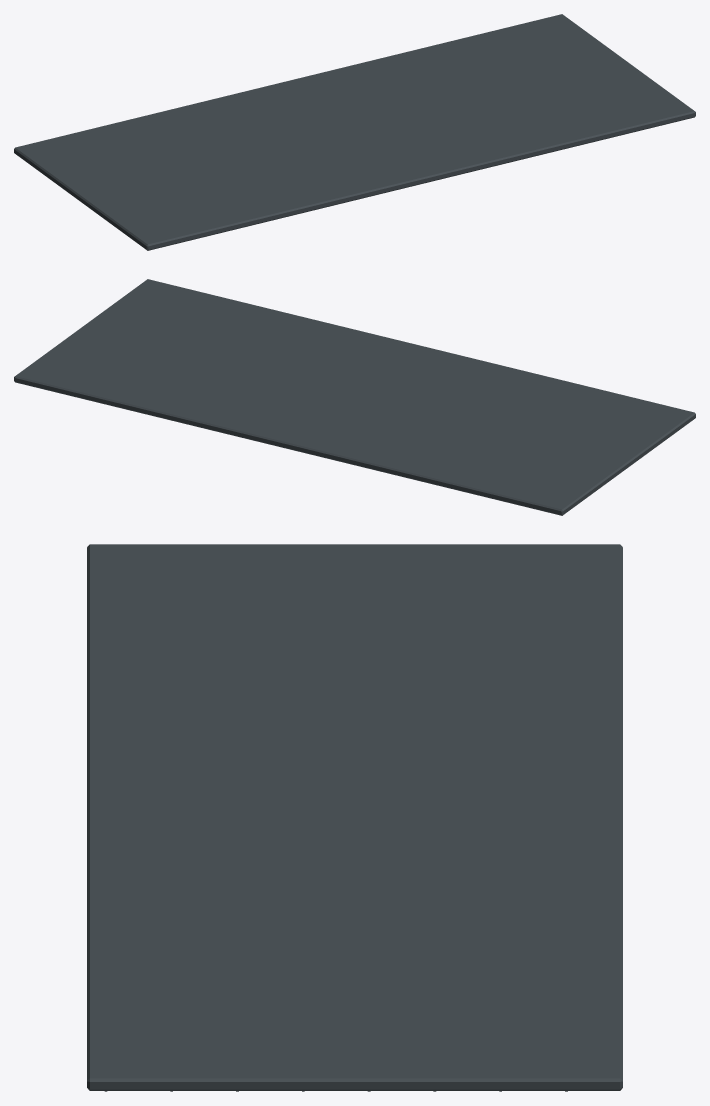
File: door_leaf_04.obj
3 views of the same model, one above another, from view 1: azimuth 30°, elevation 25°; view 2: azimuth 150°, elevation 25°; view 3: azimuth 270°, elevation 25° (orthographic). The views are drawn at different scales.
Visible parts, largest first — view 1: leaf_metal; view 2: leaf_metal; view 3: leaf_metal.
Part boxes in pixels (box(x1,y1,x2,y2)): leaf_metal: box(14, 14, 695, 250); leaf_metal: box(14, 279, 695, 515); leaf_metal: box(87, 544, 622, 1091).
Bounding box in the file's own units: 270 × 3.35 × 114.
Materials: 1 (1 with a texture image).
